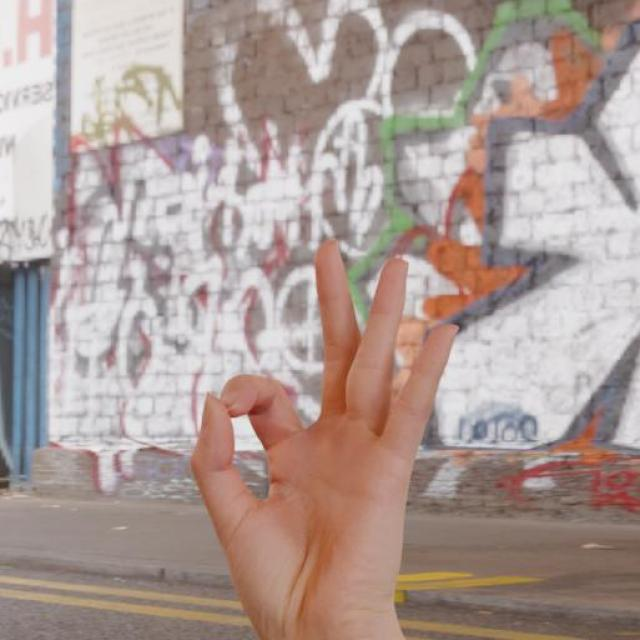F: (185, 231, 461, 640)
